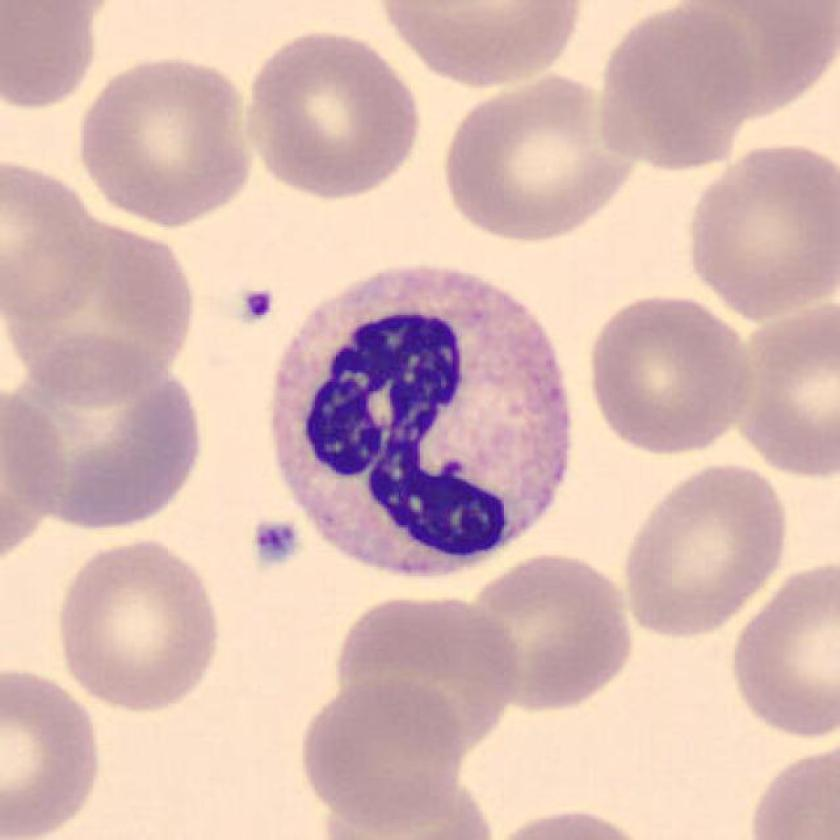neutrophil: (277, 265, 567, 573)
